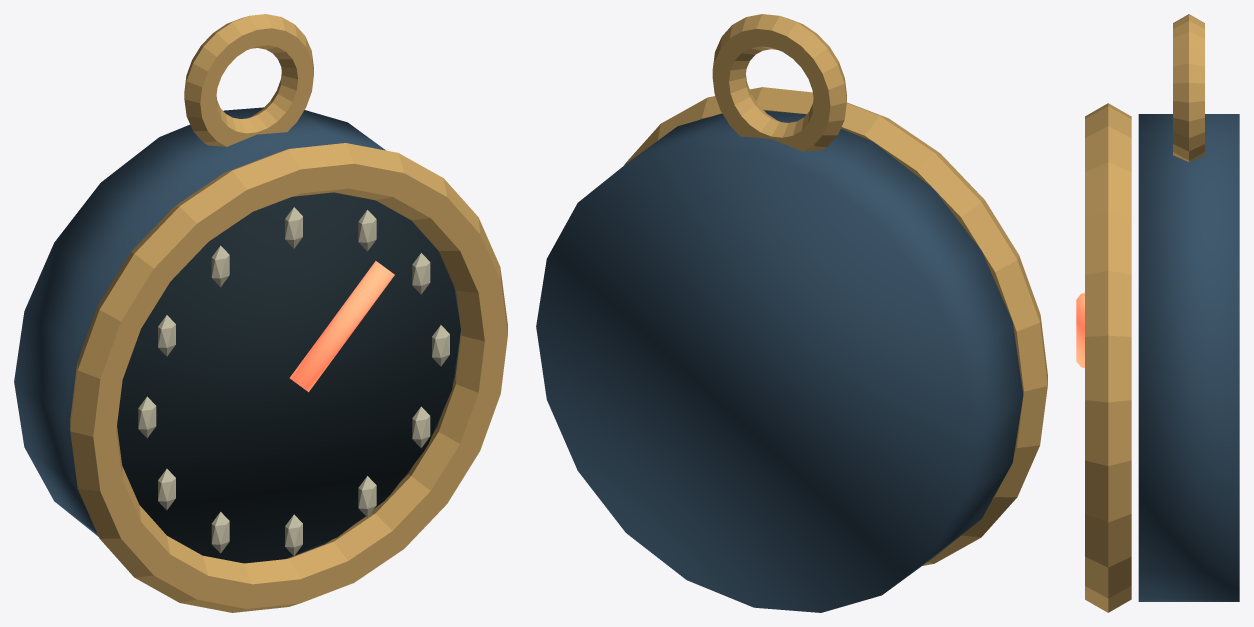
Rendered from relic-huntsmanClock.glb.
3 renders of one model, left to right at view 1: azimuth 30°, elevation 25°; view 2: azimuth 150°, elevation 25°; view 3: azimuth 270°, elevation 25°, orthographic. The views are drawn at different scales.
Parts seen in each view (by area): view 1: relic-huntsmanClock / Rubber | dark insets, relic-huntsmanClock / Brass | machined champagne, relic-huntsmanClock / Paint | Prussian blue, relic-huntsmanClock / Ceramic | warm ivory, relic-huntsmanClock / Lamp | coral red; view 2: relic-huntsmanClock / Paint | Prussian blue, relic-huntsmanClock / Brass | machined champagne; view 3: relic-huntsmanClock / Paint | Prussian blue, relic-huntsmanClock / Brass | machined champagne, relic-huntsmanClock / Lamp | coral red.
Part boxes in pixels (left/top/right/bottom): relic-huntsmanClock / Rubber | dark insets: left=117, top=192, right=460, bottom=562; relic-huntsmanClock / Brass | machined champagne: left=70, top=14, right=507, bottom=612; relic-huntsmanClock / Paint | Prussian blue: left=14, top=107, right=460, bottom=563; relic-huntsmanClock / Ceramic | warm ivory: left=138, top=207, right=449, bottom=555; relic-huntsmanClock / Lamp | coral red: left=289, top=261, right=394, bottom=392; relic-huntsmanClock / Paint | Prussian blue: left=536, top=110, right=1023, bottom=612; relic-huntsmanClock / Brass | machined champagne: left=624, top=14, right=1047, bottom=565; relic-huntsmanClock / Paint | Prussian blue: left=1138, top=114, right=1239, bottom=601; relic-huntsmanClock / Brass | machined champagne: left=1085, top=14, right=1204, bottom=612; relic-huntsmanClock / Lamp | coral red: left=1076, top=293, right=1084, bottom=368.
Bounding box in the file's own units: 1.52 × 1.87 × 0.4842.
